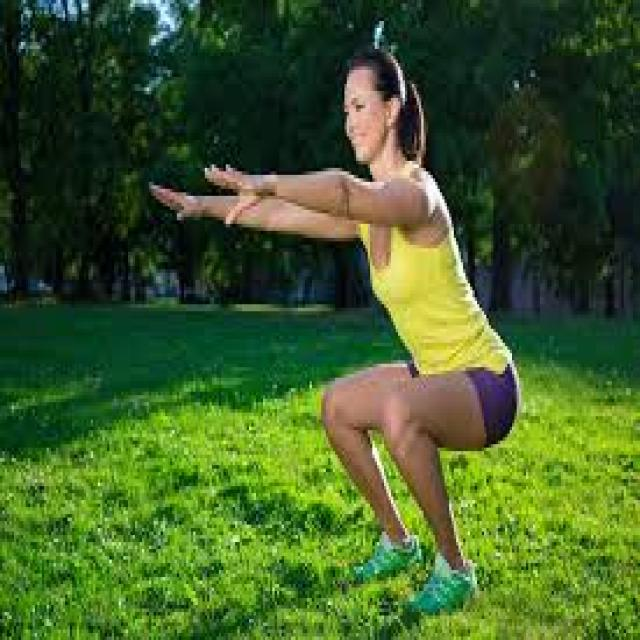squat: (150, 46, 518, 615)
